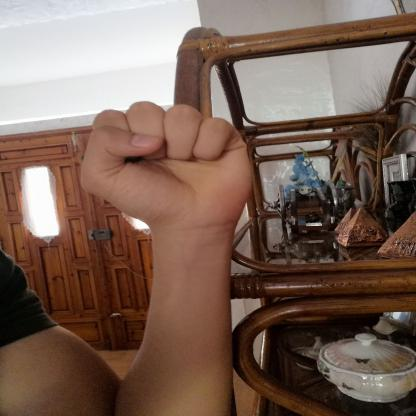SAD: (53, 87, 284, 242)
